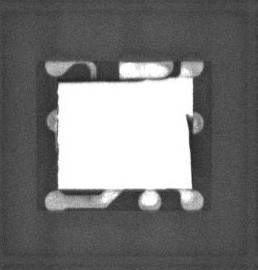DIE_BROKEN: (58, 76, 143, 85), (185, 112, 192, 150)
